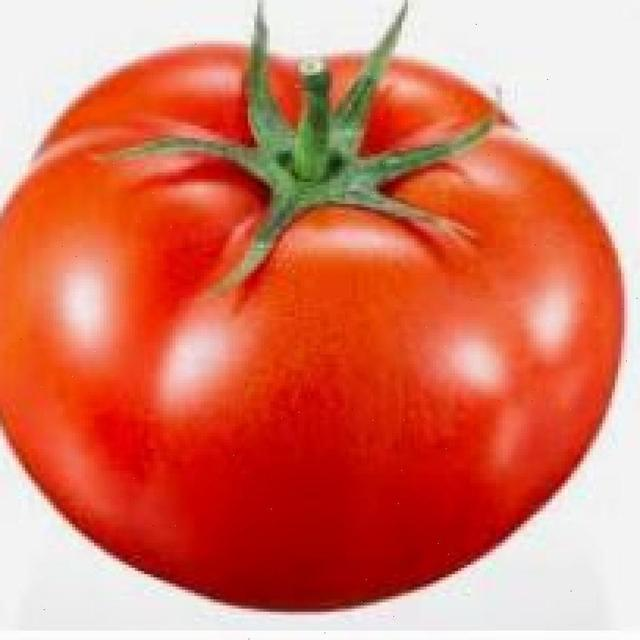Healthy Fruit: (4, 21, 415, 406)
